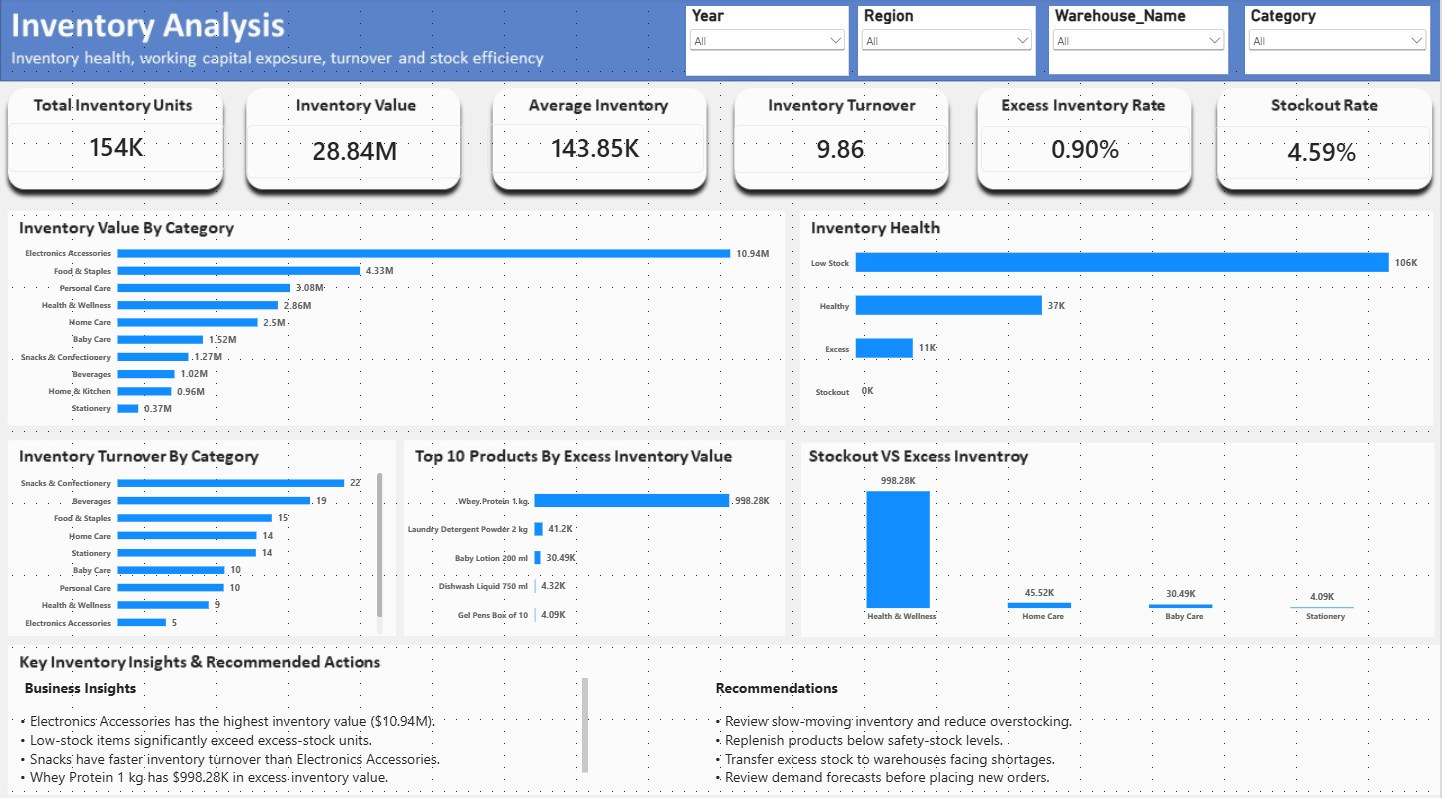

This screenshot's page, from the dashboard's own definition file:
{"tool":"powerbi","page":{"name":"Inventory Analysis","canvas":[1920,1080],"ordinal":1},"visuals":[{"type":"card","fields":{"Values":["Inventory.Total Inventory Units"]},"box":[10.7,165.3,289.3,65.3],"z":0},{"type":"card","fields":{"Values":["Inventory.Average Inventory Units"]},"box":[649.3,166.7,289.3,65.3],"z":1000},{"type":"card","fields":{"Values":["Inventory.Inventory Turnover"]},"box":[978.7,168,284,64],"z":2000},{"type":"card","fields":{"Values":["Inventory.Stockout Rate"]},"box":[1618.7,169.3,288,69.9],"z":3000},{"type":"card","fields":{"Values":["Inventory.Excess Inventory Rate"]},"box":[1308,169.3,278.7,61.3],"z":4000},{"type":"clusteredBarChart","fields":{"Category":["Products.Category"],"Y":["Inventory.Total Inventory Value"]},"box":[10.7,302.7,1032,274.7],"z":5000},{"type":"clusteredBarChart","fields":{"Category":["Products.Category"],"Y":["Inventory.Inventory Turnover"]},"box":[11,608.9,515.7,253.7],"z":6000},{"type":"clusteredBarChart","fields":{"Category":["Products.Product_Name"],"Y":["Inventory.Excess Inventory Value"]},"box":[526.6,622.6,515.7,240],"z":7000},{"type":"clusteredColumnChart","fields":{"Category":["Products.Category"],"Y":["Inventory.Excess Inventory Value"]},"box":[1064.2,608.9,842.1,242.7],"z":8000},{"type":"clusteredBarChart","fields":{"Category":["Inventory.Inventory Health"],"Y":["Inventory.Total Inventory Units"]},"box":[1064,293.3,842.7,284],"z":9000},{"type":"slicer","fields":{"Values":["Sales_Demand.Order_Date.Variation.Date Hierarchy.Year"]},"box":[914.7,9.3,217.3,93.3],"z":10000},{"type":"slicer","fields":{"Values":["Warehouses.Warehouse_Name"]},"box":[1398.7,9.3,238.7,90.7],"z":11000},{"type":"slicer","fields":{"Values":["Products.Category"]},"box":[1660,9.3,246.7,90.7],"z":12000},{"type":"slicer","fields":{"Values":["Warehouses.Region"]},"box":[1144,9.3,237.3,93.3],"z":13000},{"type":"card","fields":{"Values":["Inventory.Total Inventory Value"]},"box":[329.3,168,288,70.7],"z":14000},{"type":"textbox","box":[11,0,289,150],"z":14001},{"type":"textbox","box":[12.5,905.7,772.2,158.6],"z":14002},{"type":"textbox","box":[939.1,905.7,594.1,158.6],"z":14003}]}

Visuals, with their boxes in screenshot pixels (x1, y1, x2, y2), scaled from the page's 1920x1080 canvas onto the 1442x798 screenshot:
card - Inventory.Total Inventory Units: [left=8, top=122, right=225, bottom=170]
card - Inventory.Average Inventory Units: [left=488, top=123, right=705, bottom=171]
card - Inventory.Inventory Turnover: [left=735, top=124, right=948, bottom=171]
card - Inventory.Stockout Rate: [left=1216, top=125, right=1432, bottom=177]
card - Inventory.Excess Inventory Rate: [left=982, top=125, right=1192, bottom=170]
clusteredBarChart - Products.Category x Inventory.Total Inventory Value: [left=8, top=224, right=783, bottom=427]
clusteredBarChart - Products.Category x Inventory.Inventory Turnover: [left=8, top=450, right=396, bottom=637]
clusteredBarChart - Products.Product_Name x Inventory.Excess Inventory Value: [left=395, top=460, right=783, bottom=637]
clusteredColumnChart - Products.Category x Inventory.Excess Inventory Value: [left=799, top=450, right=1432, bottom=629]
clusteredBarChart - Inventory.Inventory Health x Inventory.Total Inventory Units: [left=799, top=217, right=1432, bottom=427]
slicer - Sales_Demand.Order_Date.Variation.Date Hierarchy.Year: [left=687, top=7, right=850, bottom=76]
slicer - Warehouses.Warehouse_Name: [left=1050, top=7, right=1230, bottom=74]
slicer - Products.Category: [left=1247, top=7, right=1432, bottom=74]
slicer - Warehouses.Region: [left=859, top=7, right=1037, bottom=76]
card - Inventory.Total Inventory Value: [left=247, top=124, right=464, bottom=176]
textbox: [left=8, top=0, right=225, bottom=111]
textbox: [left=9, top=669, right=589, bottom=786]
textbox: [left=705, top=669, right=1151, bottom=786]
